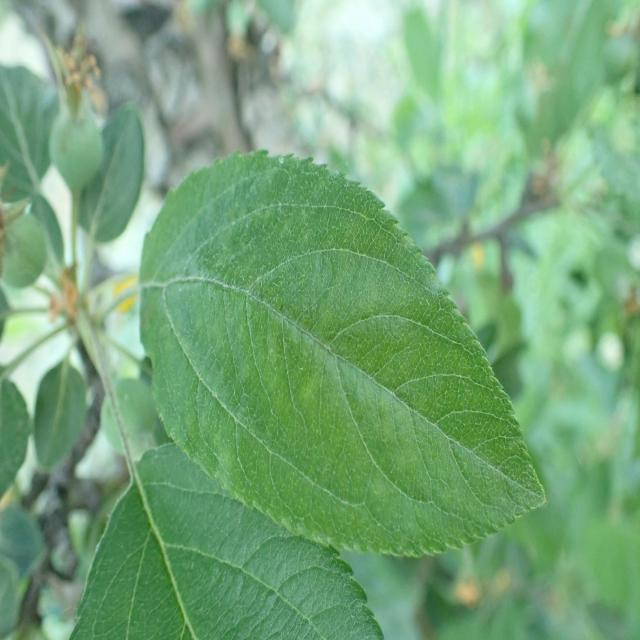healthy: (138, 148, 548, 560), (70, 439, 384, 639)
